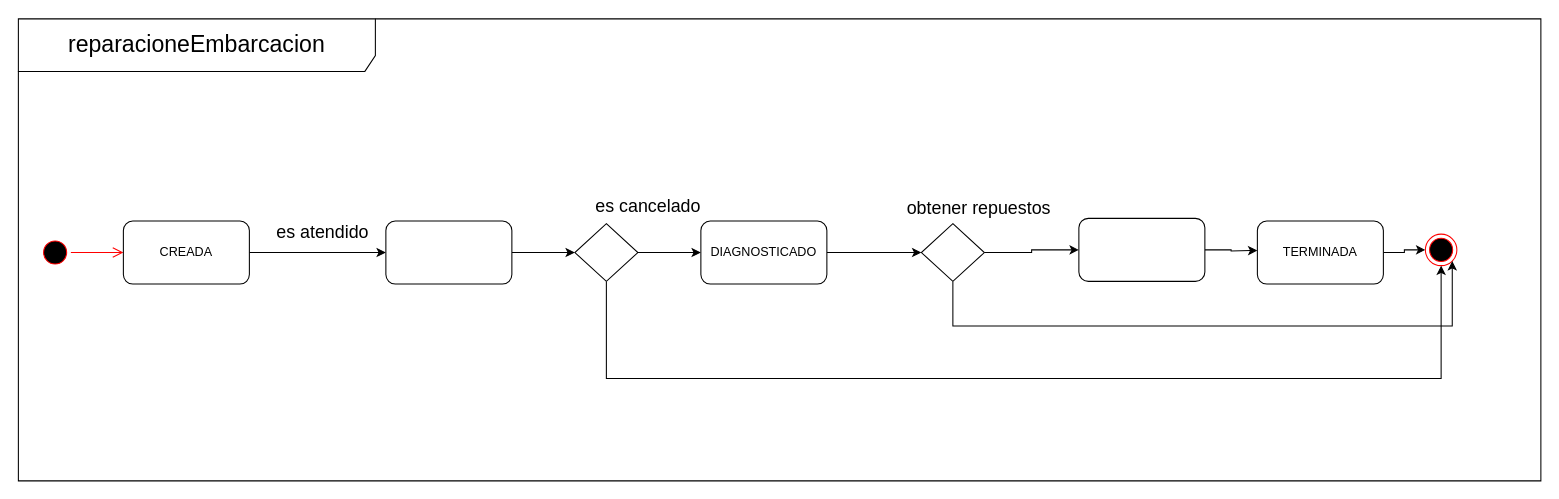
Image size: 1559x499. Some labels were removed from this diagram. Each missing label, with the centre of its shape:
"EN REPARACION" belongs at (1141,249).
"REALIZANDO DIAGNOSTICO" belongs at (448,252).
